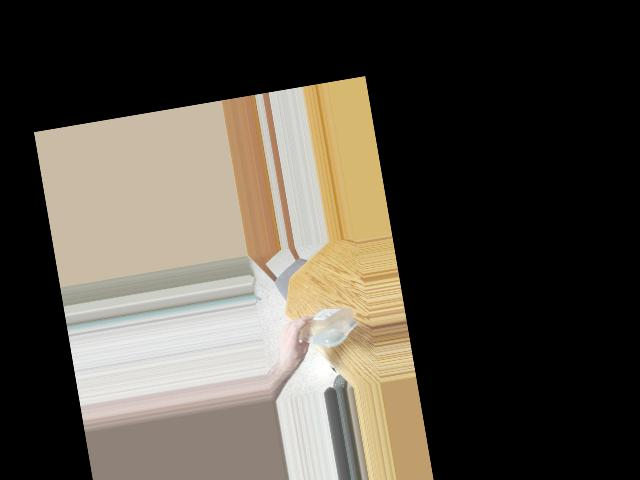cheese: (283, 302, 360, 351)
